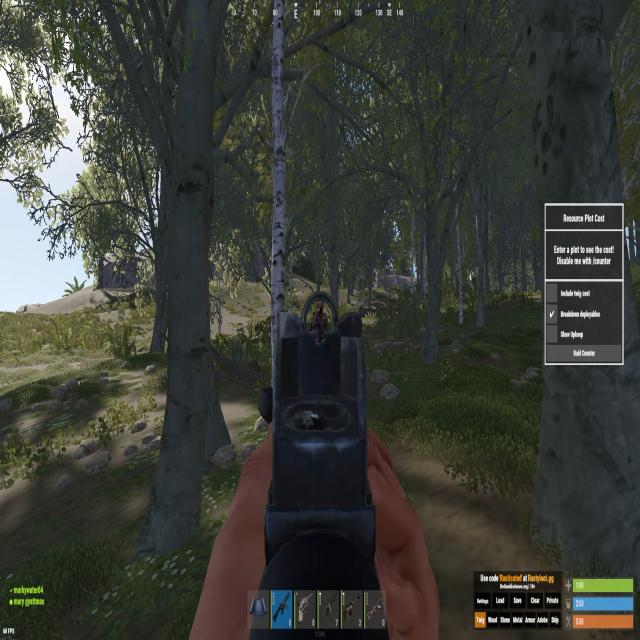Player: (308, 301, 331, 331)
